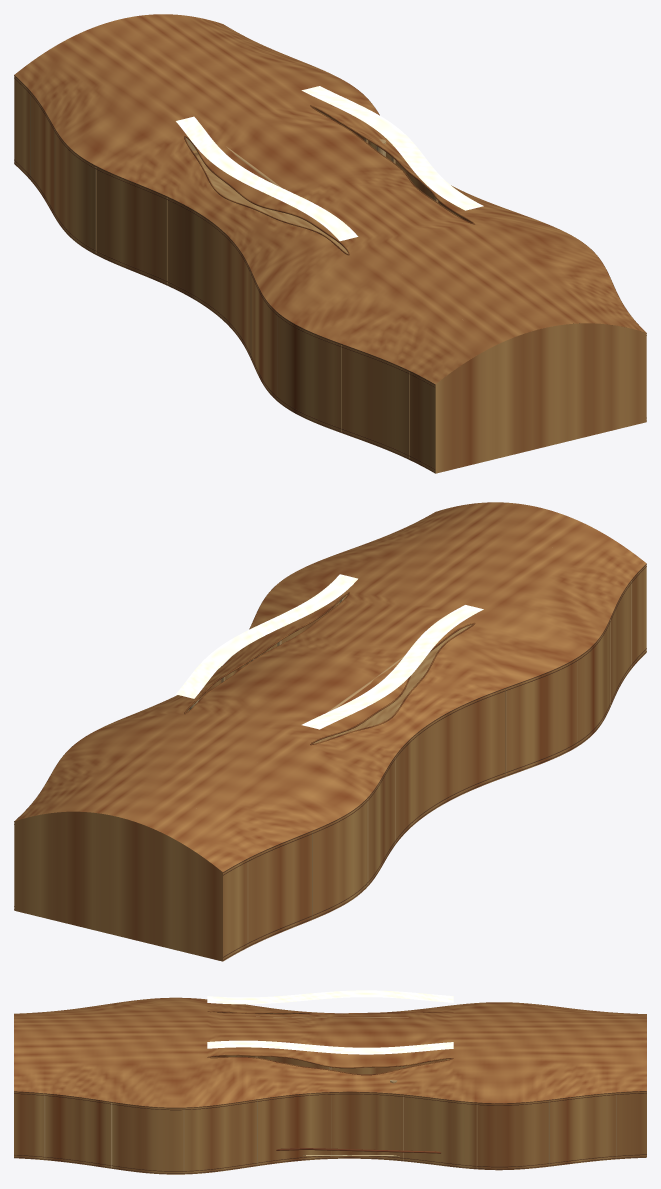
File: mundo-cello.glb
3 renders of one model, top to bottom at view 1: azimuth 30°, elevation 25°; view 2: azimuth 150°, elevation 25°; view 3: azimuth 270°, elevation 25°, orthographic. The views are drawn at different scales.
Parts seen in each view (by area): view 1: world · Arce miel satinado · 0, world · Luz al otro lado de las efes · 2, world · Filete de ébano · 1; view 2: world · Arce miel satinado · 0, world · Luz al otro lado de las efes · 2, world · Filete de ébano · 1; view 3: world · Arce miel satinado · 0, world · Luz al otro lado de las efes · 2, world · Filete de ébano · 1.
Boxes of the visible parts, x1,y1,x2,y2 form: world · Arce miel satinado · 0: [14, 14, 646, 473]; world · Luz al otro lado de las efes · 2: [176, 86, 483, 241]; world · Filete de ébano · 1: [14, 75, 646, 472]; world · Arce miel satinado · 0: [14, 502, 646, 961]; world · Luz al otro lado de las efes · 2: [176, 574, 483, 729]; world · Filete de ébano · 1: [14, 563, 646, 960]; world · Arce miel satinado · 0: [14, 997, 646, 1174]; world · Luz al otro lado de las efes · 2: [207, 990, 453, 1054]; world · Filete de ébano · 1: [14, 1013, 646, 1173].
Size of the model in its own units: 74.13 by 30.96 by 180.
